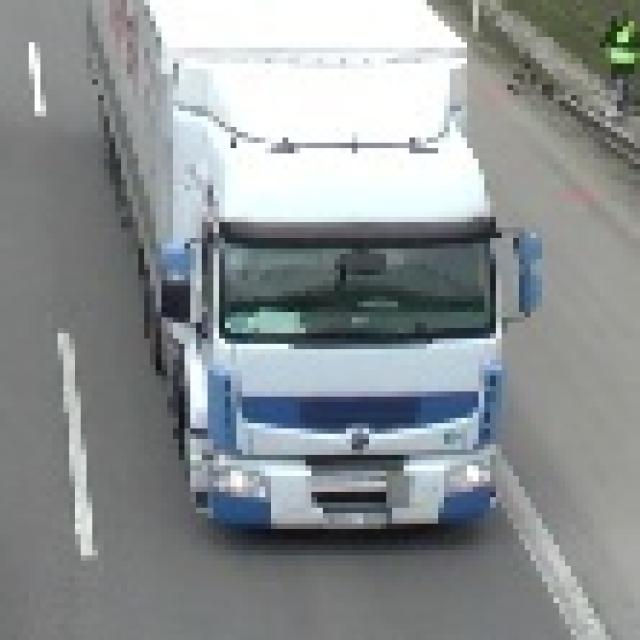TRUCK: (88, 0, 540, 530)
